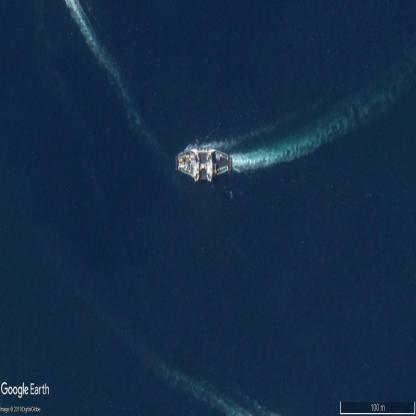ship: (174, 147, 231, 182)
